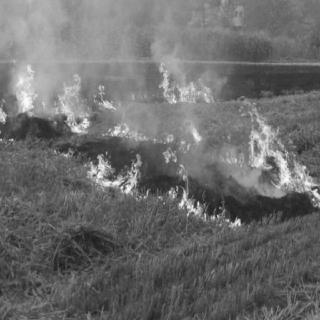Fire: (166, 173, 244, 231)
